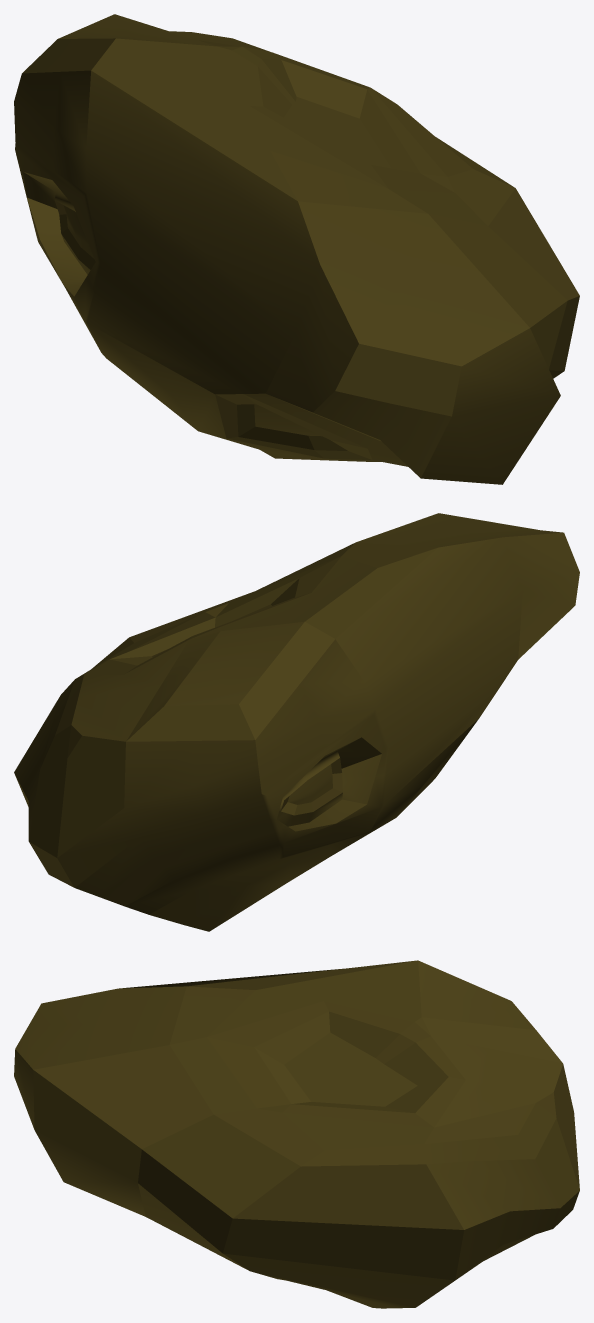
Rendered from AsteroidV2.fbx.
The picture shows the model from 3 angles, top to bottom: view 1: azimuth 30°, elevation 25°; view 2: azimuth 150°, elevation 25°; view 3: azimuth 270°, elevation 25°; orthographic projection. The views are drawn at different scales.
Parts seen in each view (by area): view 1: AsteroidV5; view 2: AsteroidV5; view 3: AsteroidV5.
Boxes of the visible parts, x1=… form: AsteroidV5: x1=14, y1=14, x2=579, y2=484; AsteroidV5: x1=14, y1=513, x2=579, y2=931; AsteroidV5: x1=14, y1=960, x2=579, y2=1308.
Bounding box in the file's own units: 8.47 × 8.78 × 15.51.
